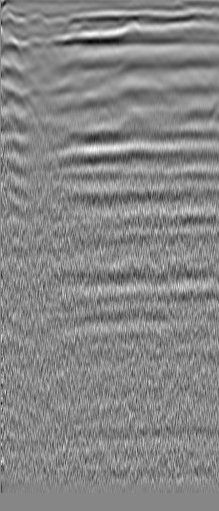오수: (25, 7, 50, 35)
우수: (154, 18, 178, 39)
